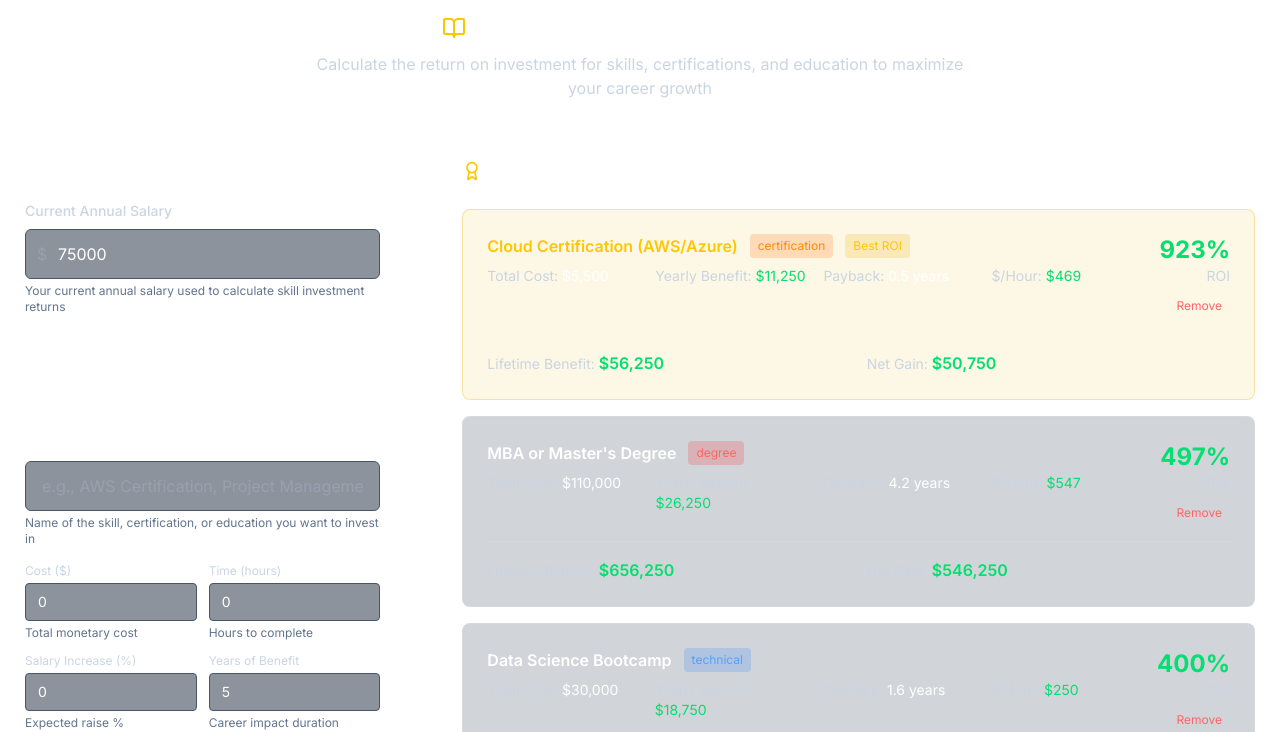
SkillInvestmentROICalculator › validates input bounds correctly
// Test max values are respected
Replace the text in the number field labelled "Cost ($)" with "600000" at coordinates (111, 602), box [25,583,197,621]
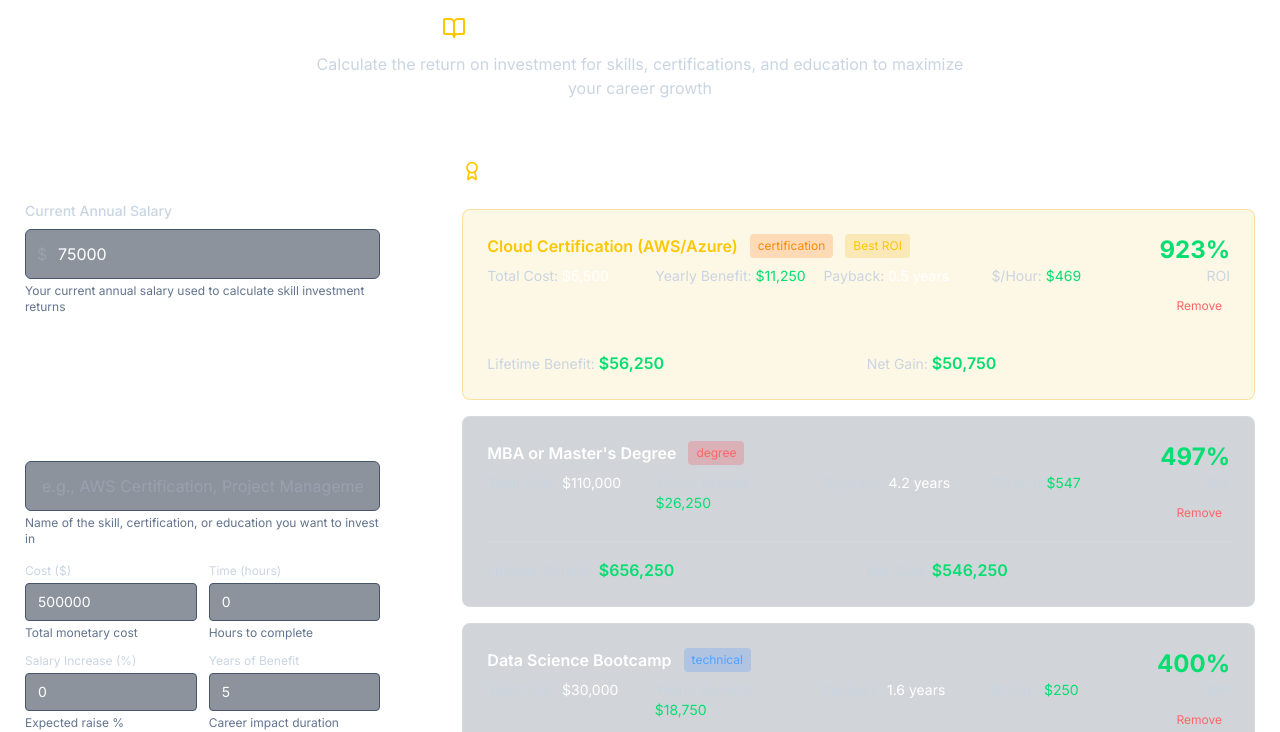
Replace the text in the number field labelled "Time (hours)" with "6000" at coordinates (295, 602), box [209,583,380,621]
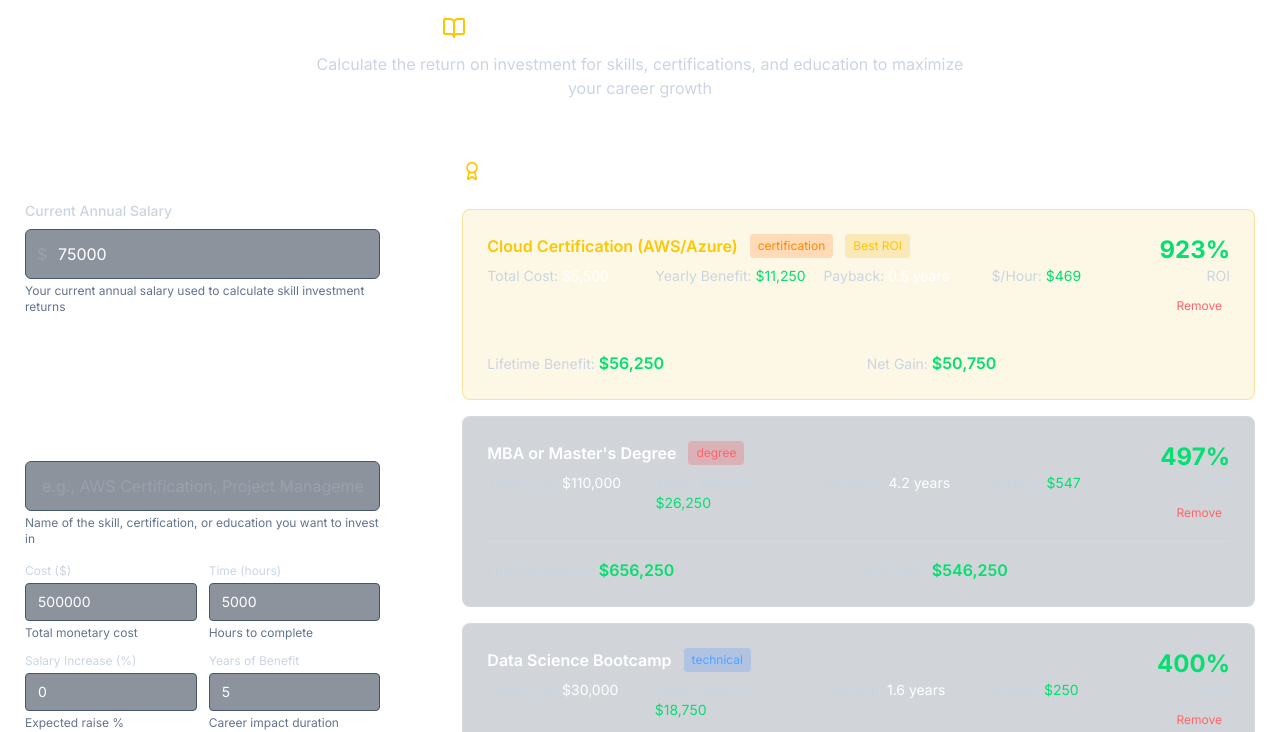
Replace the text in the number field labelled "Salary Increase (%)" with "150" at coordinates (111, 692), box [25,673,197,711]
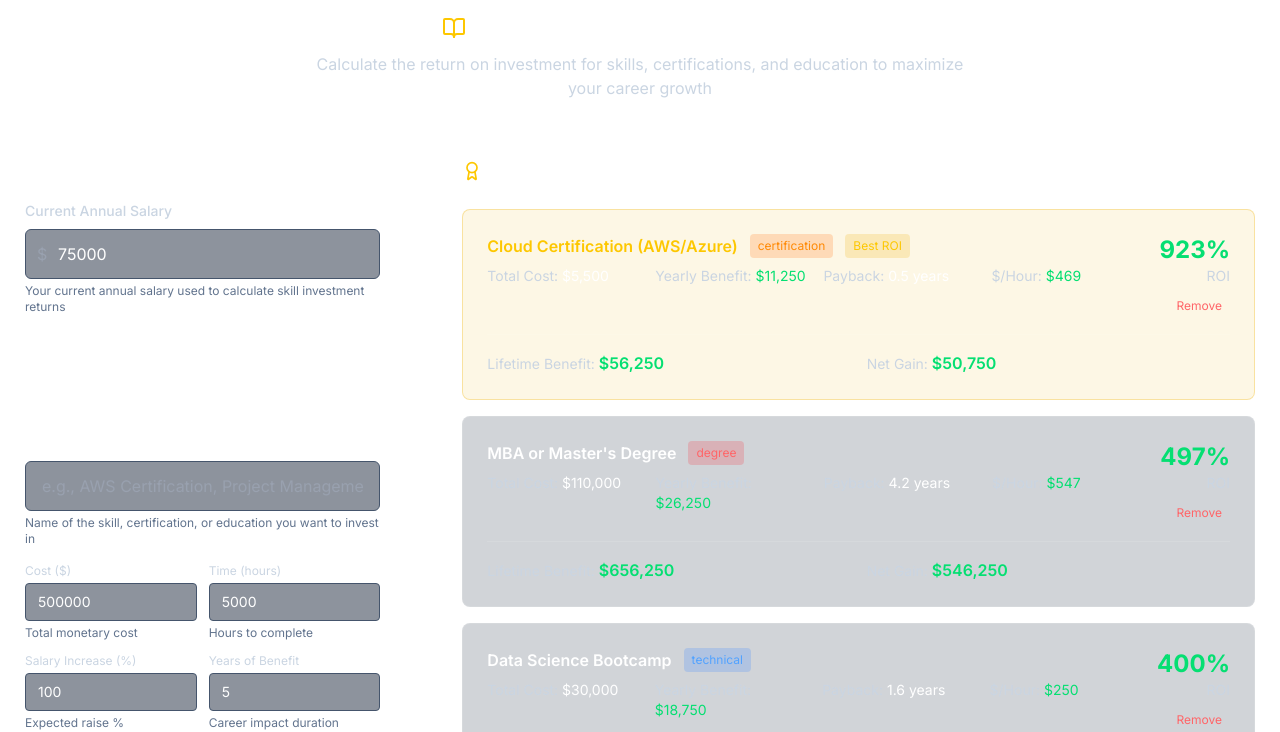
expect the number field labelled "Cost ($)" holds "500000": met, box [25,583,197,621]
expect the number field labelled "Time (hours)" holds "5000": met, box [209,583,380,621]
expect the number field labelled "Salary Increase (%)" holds "100": met, box [25,673,197,711]
